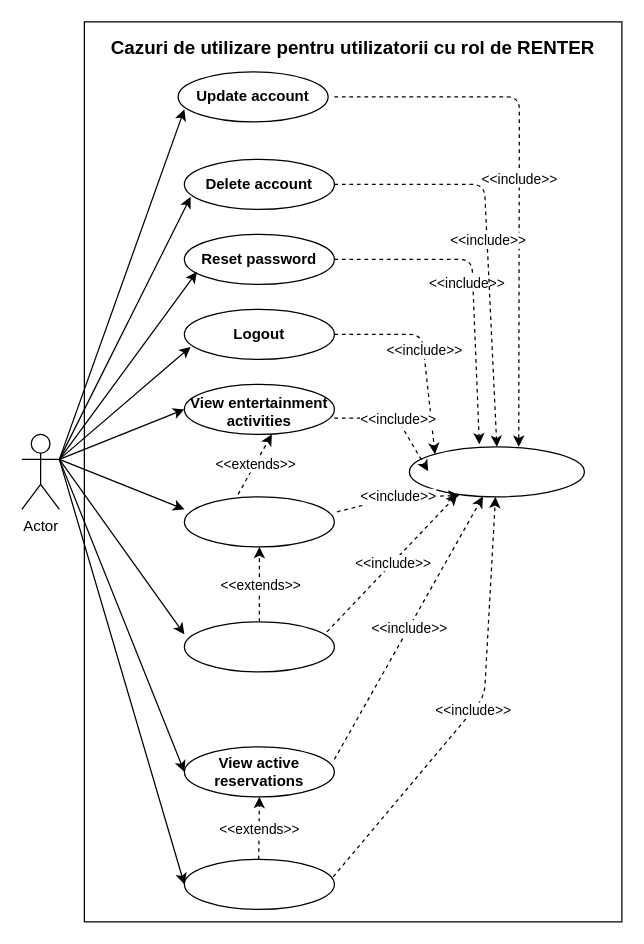
Some shapes in this 644 by 944 pixel diagram are drawn without their labels. The centre of each missing label's shape, as x and y in pixels:
"Cancel reservation" belongs at pixel 258 883.
"Confirm payment" belongs at pixel 258 646.
"Login" belongs at pixel 496 471.
"Make reservation" belongs at pixel 258 521.
